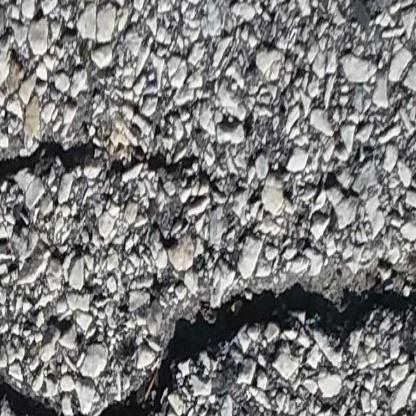Cracks: (0, 261, 416, 416), (0, 138, 222, 203)
